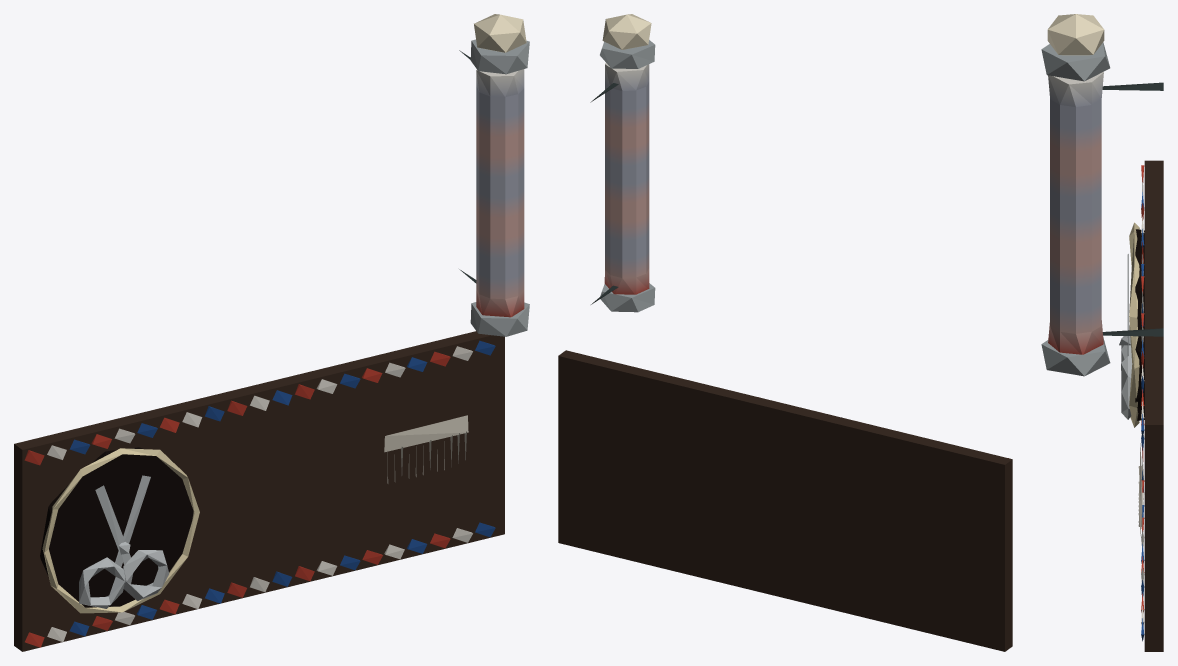
The model's file is bang_hot_toc_anh_ba_32.glb.
3 renders of one model, left to right at view 1: azimuth 30°, elevation 25°; view 2: azimuth 150°, elevation 25°; view 3: azimuth 270°, elevation 25°, orthographic. The views are drawn at different scales.
Parts seen in each view (by area): view 1: bang_hot_toc_anh_ba_32; view 2: bang_hot_toc_anh_ba_32; view 3: bang_hot_toc_anh_ba_32.
Part boxes in pixels (x1,y1,x2,y2): bang_hot_toc_anh_ba_32: (14, 14, 529, 651); bang_hot_toc_anh_ba_32: (558, 14, 1012, 651); bang_hot_toc_anh_ba_32: (1041, 14, 1163, 651).
Bounding box in the file's own units: 3 × 3.27 × 0.5854.
